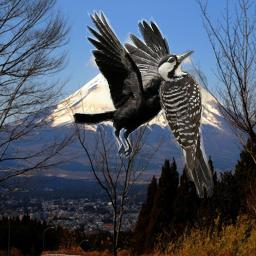Crow: (72, 10, 172, 161)
Woodpecker: (157, 50, 214, 198)
